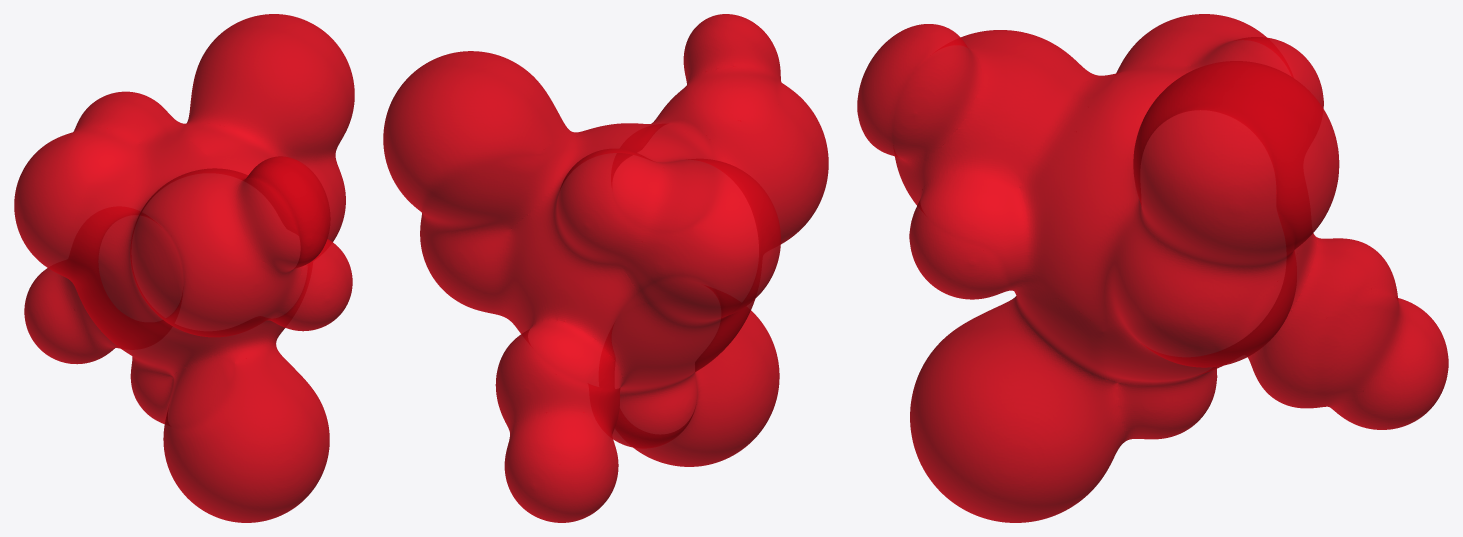
The model's file is Therapeutic protein fullbody.fbx.
The picture shows the model from 3 angles, left to right: view 1: azimuth 30°, elevation 25°; view 2: azimuth 150°, elevation 25°; view 3: azimuth 270°, elevation 25°; orthographic projection. The views are drawn at different scales.
Parts seen in each view (by area): view 1: Sphere.007; view 2: Sphere.007; view 3: Sphere.007.
Boxes of the visible parts, x1,y1,x2,y2 form: Sphere.007: [14, 14, 354, 522]; Sphere.007: [383, 14, 828, 522]; Sphere.007: [857, 14, 1448, 522].
Size of the model in its own units: 384 by 444 by 465.
